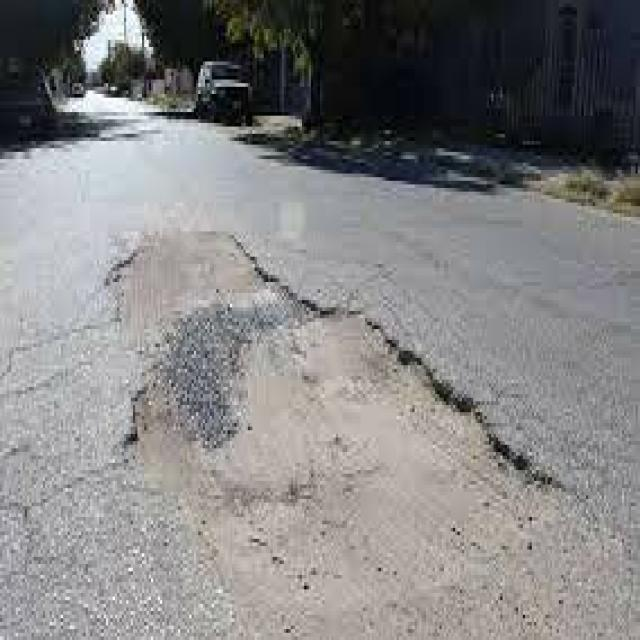Pothole: (92, 199, 600, 640)
